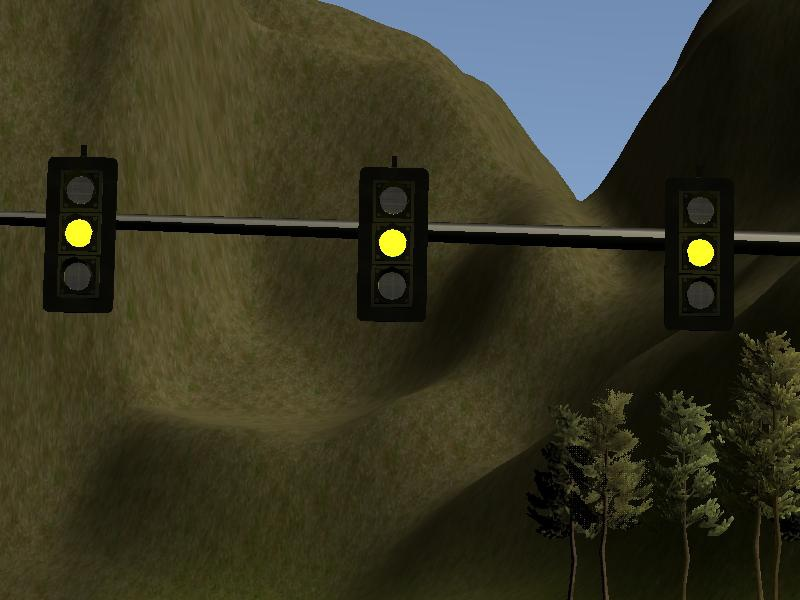Yellow: (360, 166, 427, 321)
